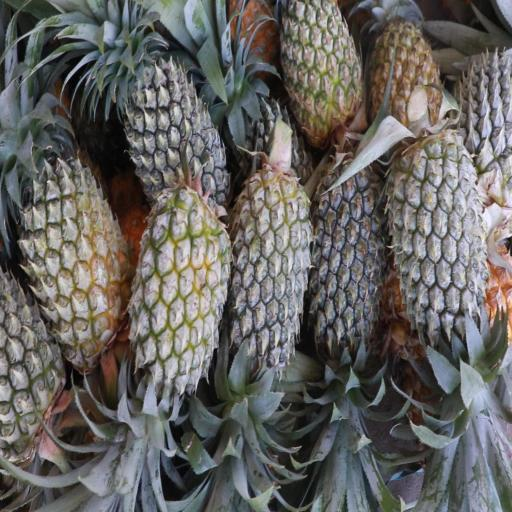------------------------------: (25, 161, 136, 354), (139, 188, 229, 392), (282, 0, 362, 139), (372, 7, 442, 146)
